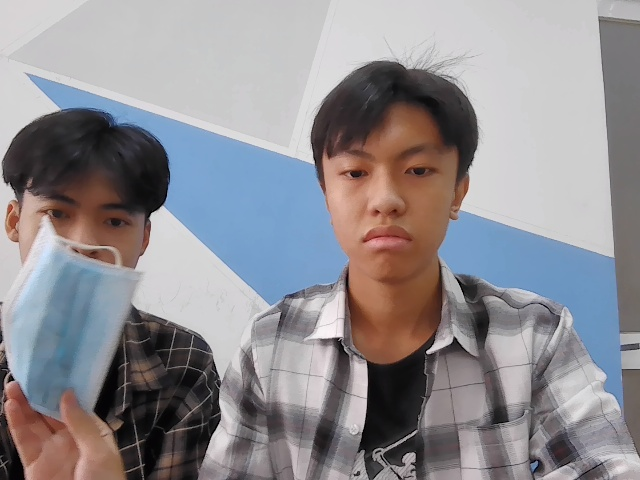human: (318, 57, 485, 270)
mask: (2, 215, 137, 425)
